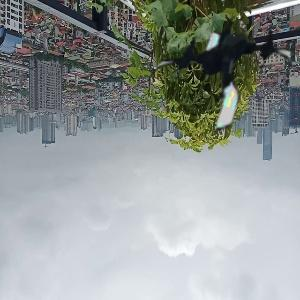drone: (148, 4, 294, 150)
